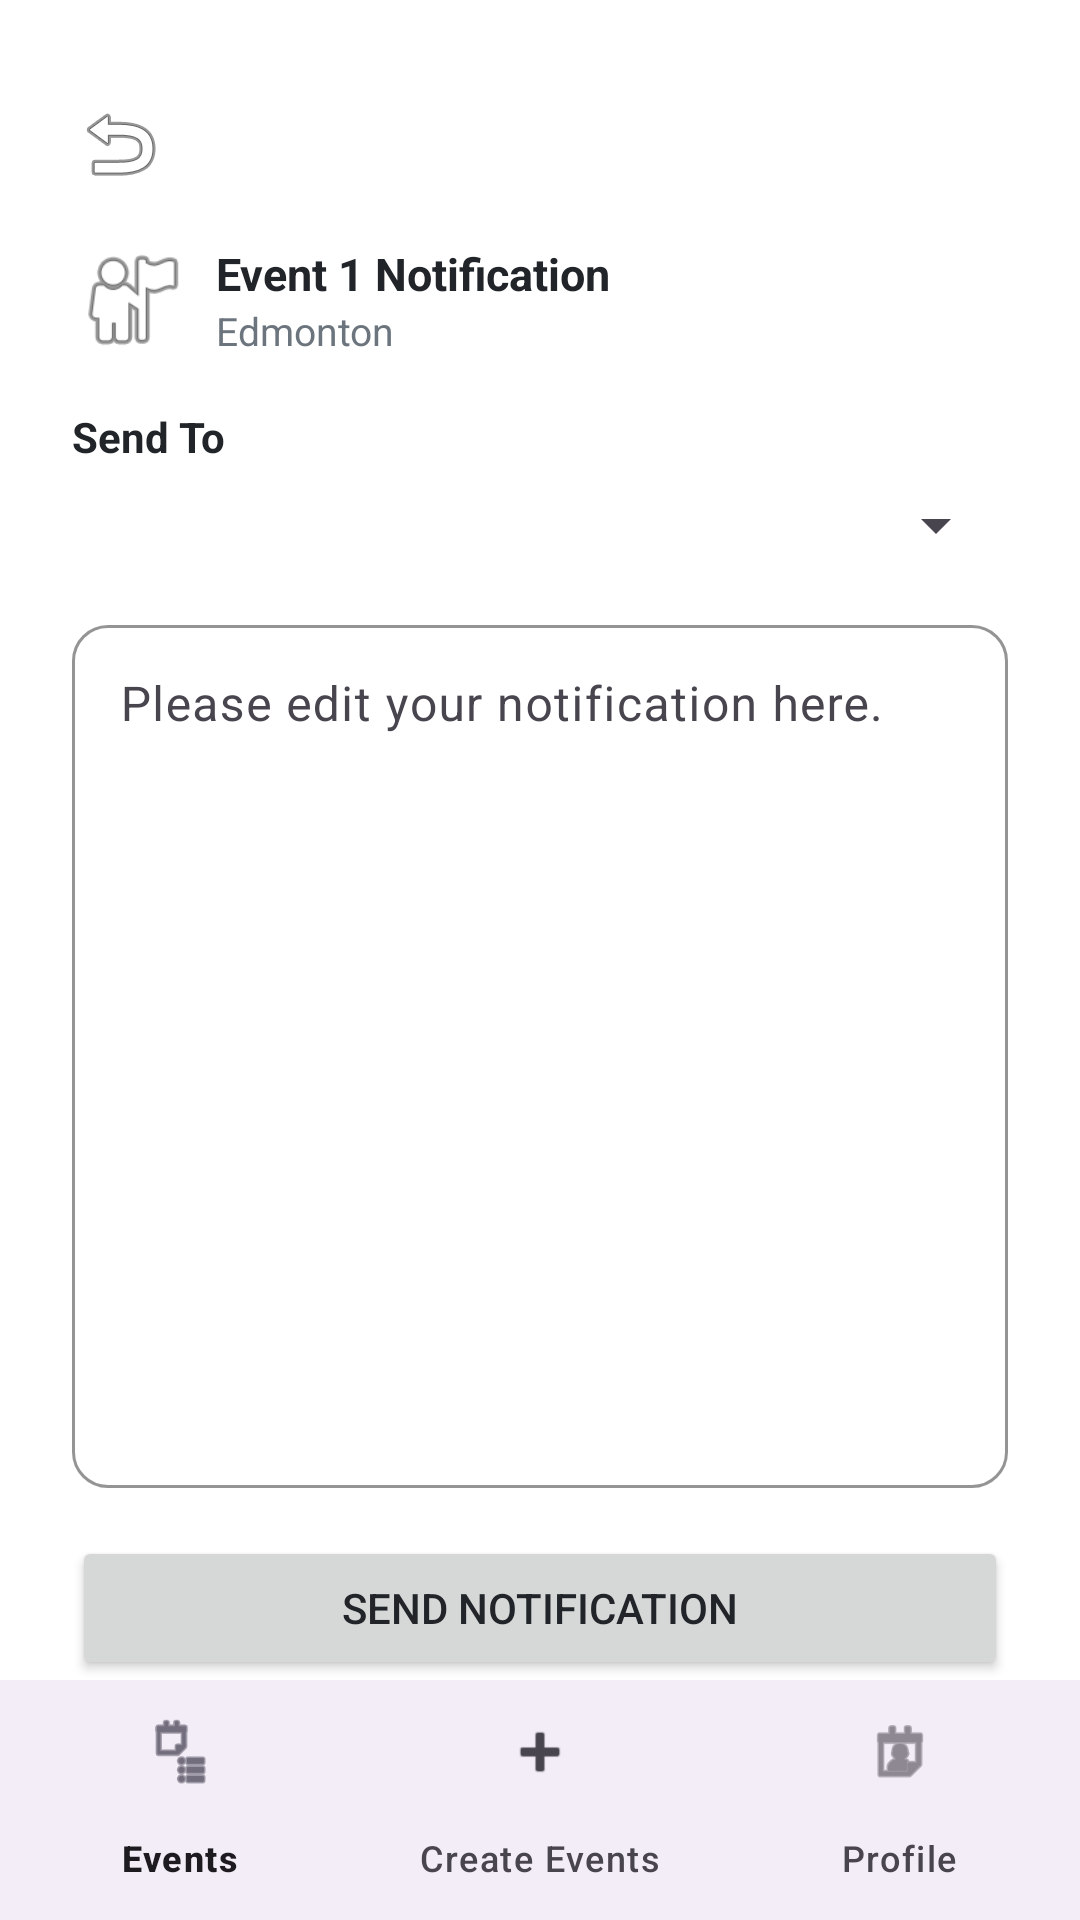

Icon click points for this 1080x1920 phone screenshot, format point (x, y):
Back: point (121, 144)
Organizer avatar: point (133, 300)
